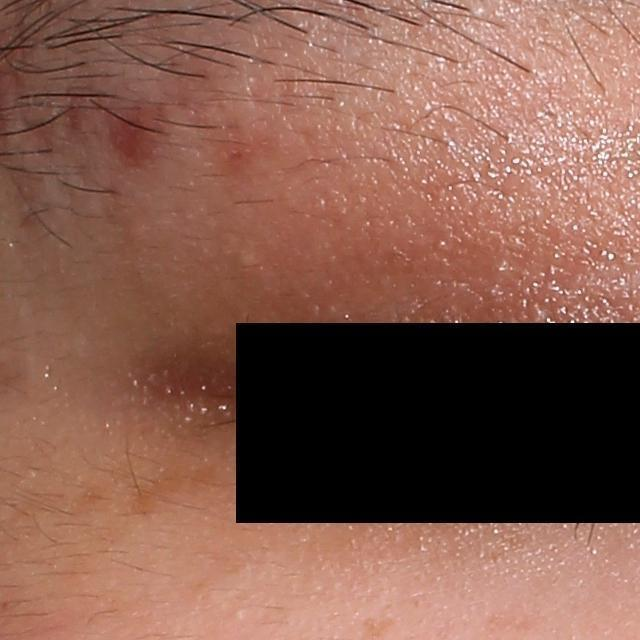melasma: (123, 461, 217, 520), (64, 477, 118, 520), (358, 615, 396, 640)
